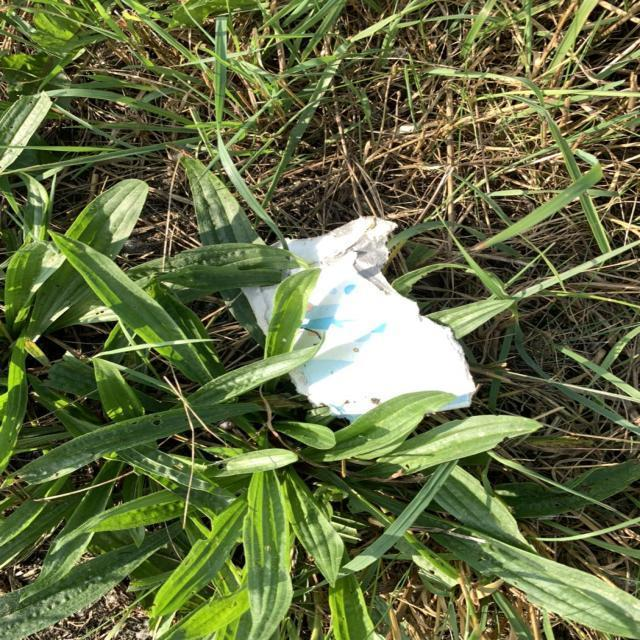Paper: (238, 215, 482, 430)
